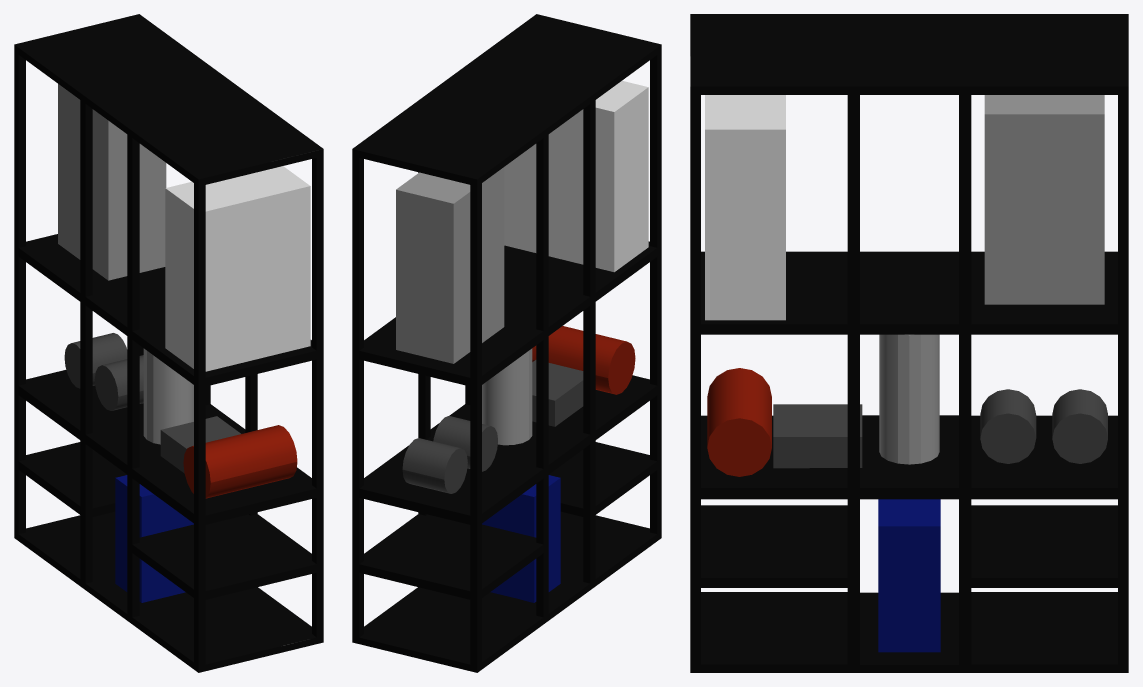
File: weird shit next to the door.fbx
The picture shows the model from 3 angles, left to right: view 1: azimuth 30°, elevation 25°; view 2: azimuth 150°, elevation 25°; view 3: azimuth 270°, elevation 25°; orthographic projection. The views are drawn at different scales.
Parts seen in each view (by area): view 1: Cube; view 2: Cube; view 3: Cube.
Boxes of the visible parts, box(x1,y1,x2,y2) form: Cube: box(14, 14, 323, 672); Cube: box(352, 14, 661, 672); Cube: box(690, 14, 1128, 672).
Bounding box in the file's own units: 78.36 × 295 × 200.
1 material, 1 textured.
